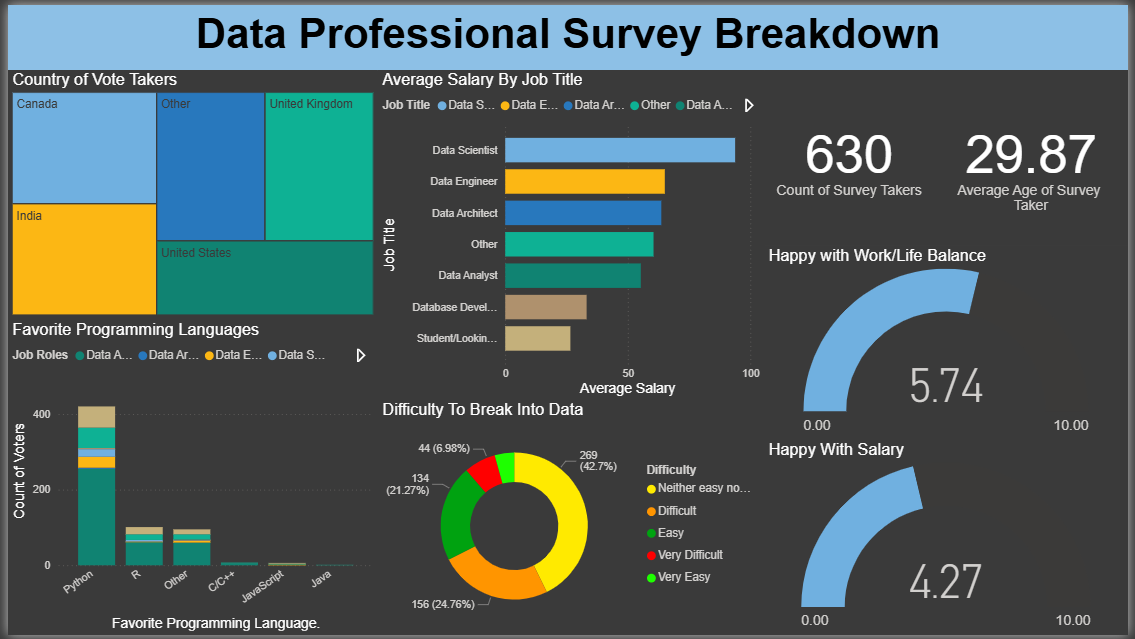

Layout of this report page (visuals, bound fields, positions):
{"tool":"powerbi","page":{"name":"Page 1","canvas":[1280,720],"ordinal":0},"visuals":[{"type":"textbox","box":[0,0,1280.3,74.6],"z":0},{"type":"card","fields":{"Values":["Count(Data Professional Survey.Unique ID)"]},"box":[864.5,74.6,194.4,200.5],"z":1000},{"type":"card","fields":{"Values":["Avg(Data Professional Survey.Q10 - Current Age)"]},"box":[1059,74.6,221.3,200.5],"z":2000},{"type":"barChart","title":"Average Salary By Job Title","fields":{"Category":["Data Professional Survey.Q1 - Which Title Best Fits your Current Role?.1"],"Y":["Avg(Data Professional Survey.Average Salary)"],"Series":["Data Professional Survey.Q1 - Which Title Best Fits your Current Role?.1"]},"box":[422.8,74.6,441.8,377.4],"z":3000},{"type":"columnChart","title":"Favorite Programming Languages","fields":{"Category":["Data Professional Survey.Q5 - Favorite Programming Language.1"],"Y":["CountNonNull(Data Professional Survey.Unique ID)"],"Series":["Data Professional Survey.Q1 - Which Title Best Fits your Current Role?.1"]},"box":[0,359.9,422.8,359.9],"z":4000},{"type":"treemap","title":"Country of Vote Takers","fields":{"Group":["Data Professional Survey.Q11 - Which Country do you live in?.1"],"Values":["Count(Data Professional Survey.Q11 - Which Country do you live in?.1)"]},"box":[0,74.6,422.8,285.3],"z":5000},{"type":"gauge","title":"Happy with Work/Life Balance","fields":{"Y":["Avg(Data Professional Survey.Q6 - How Happy are you in your Current Position with the following? (Work/Life Balance))"],"MinValue":["Min(Data Professional Survey.Q6 - How Happy are you in your Current Position with the following? (Work/Life Balance))1"],"MaxValue":["Max(Data Professional Survey.Q6 - How Happy are you in your Current Position with the following? (Work/Life Balance))2"]},"box":[864.5,275.1,415.8,221.3],"z":6000},{"type":"gauge","title":"Happy With Salary","fields":{"Y":["Avg(Data Professional Survey.Q6 - How Happy are you in your Current Position with the following? (Salary))"],"MinValue":["Min(Data Professional Survey.Q6 - How Happy are you in your Current Position with the following? (Salary))"],"MaxValue":["Max(Data Professional Survey.Q6 - How Happy are you in your Current Position with the following? (Salary))"]},"box":[864.5,496.5,415.8,223.8],"z":7000},{"type":"donutChart","title":"Difficulty To Break Into Data","fields":{"Category":["Data Professional Survey.Q7 - How difficult was it for you to break into Data?"],"Y":["CountNonNull(Data Professional Survey.Q7 - How difficult was it for you to break into Data?)"]},"box":[422.8,452,441.8,267.7],"z":8000}]}

Visuals, with their boxes in screenshot pixels (x1, y1, x2, y2), scaled from the page's 1280x720 canvas onto the 1135x639 screenshot:
textbox: Rect(0, 0, 1134, 66)
card - Count(Data Professional Survey.Unique ID): Rect(767, 66, 939, 244)
card - Avg(Data Professional Survey.Q10 - Current Age): Rect(939, 66, 1134, 244)
"Average Salary By Job Title" barChart: Rect(375, 66, 767, 401)
"Favorite Programming Languages" columnChart: Rect(0, 319, 375, 638)
"Country of Vote Takers" treemap: Rect(0, 66, 375, 319)
"Happy with Work/Life Balance" gauge: Rect(767, 244, 1134, 441)
"Happy With Salary" gauge: Rect(767, 441, 1134, 638)
"Difficulty To Break Into Data" donutChart: Rect(375, 401, 767, 638)
